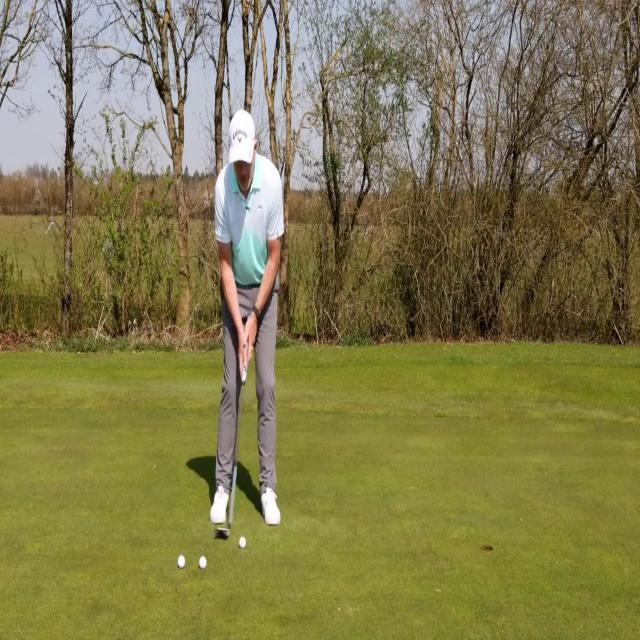GolfBall: (170, 550, 190, 574), (194, 549, 211, 575), (233, 530, 250, 554)
